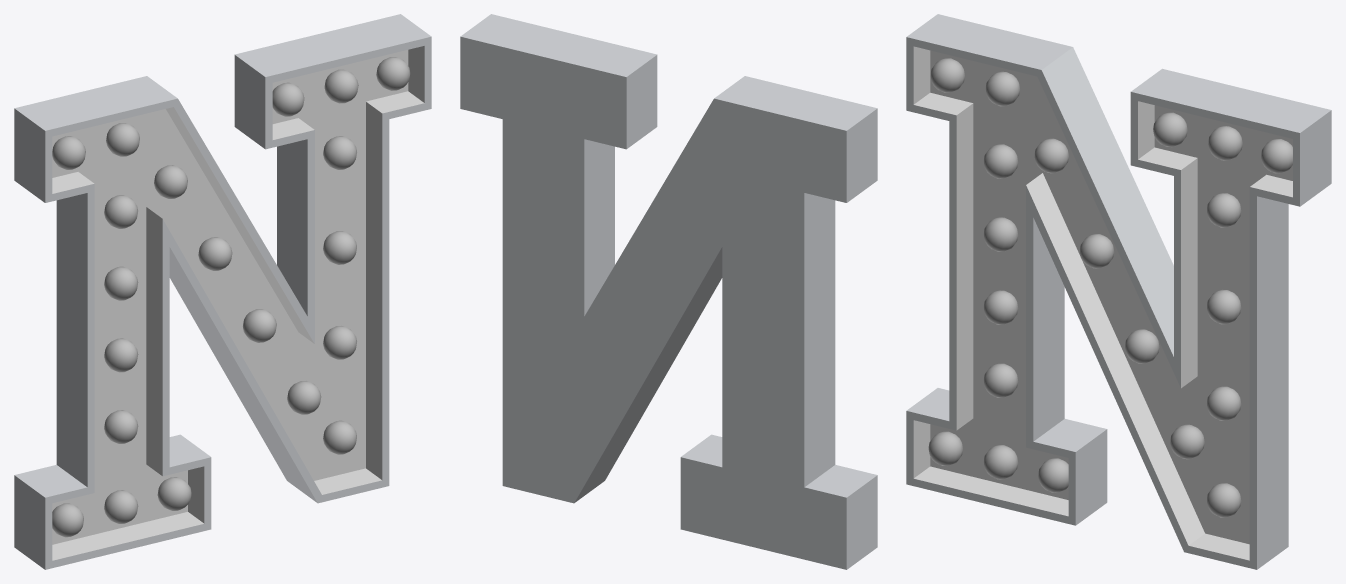
The model's file is LettersBulb01_N.FBX.
3 views of the same model, side by side, from view 1: azimuth 30°, elevation 25°; view 2: azimuth 150°, elevation 25°; view 3: azimuth 330°, elevation 25° (orthographic).
Visible parts, largest first — view 1: LettersBulb01_N; view 2: LettersBulb01_N; view 3: LettersBulb01_N.
Part boxes in pixels (x1,y1,x2,y2): LettersBulb01_N: (14, 14, 431, 569); LettersBulb01_N: (460, 14, 877, 569); LettersBulb01_N: (906, 14, 1331, 569).
Size of what is drawn, in the model's own units: 1.12 by 1.22 by 0.1563.
